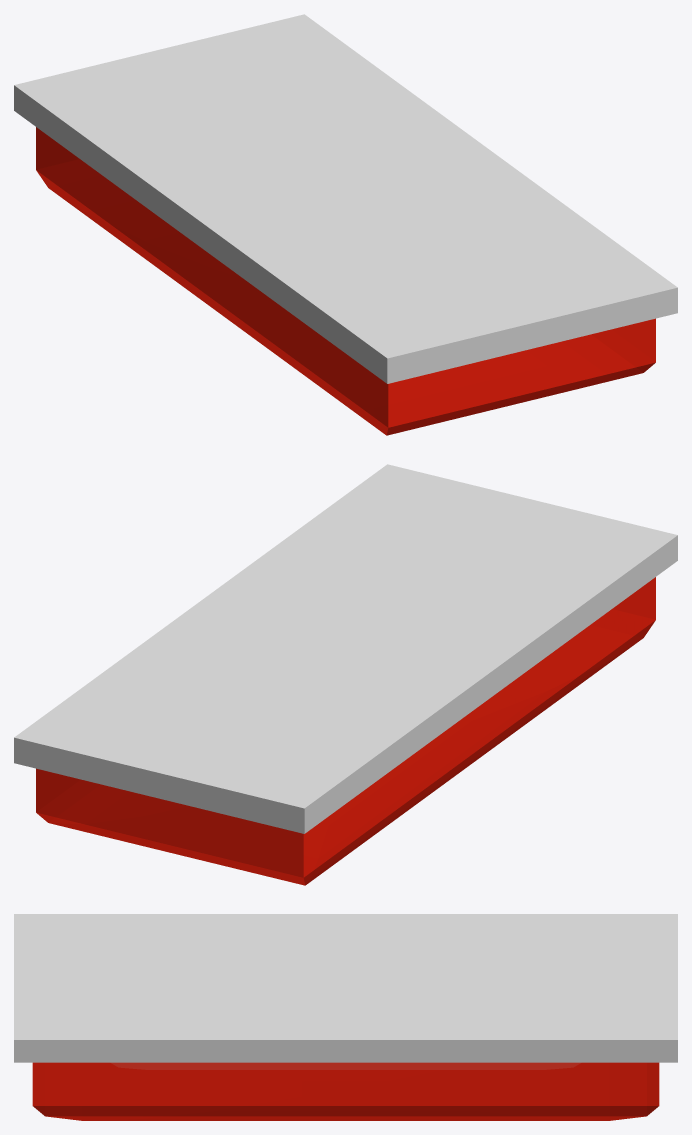
The model's file is emergency_light.glb.
3 views of the same model, one above another, from view 1: azimuth 30°, elevation 25°; view 2: azimuth 150°, elevation 25°; view 3: azimuth 270°, elevation 25° (orthographic). The views are drawn at different scales.
Visible parts, largest first — view 1: Top, Cover; view 2: Top, Cover; view 3: Top, Cover.
Boxes of the visible parts, bbox=[...] form: Top: bbox=[14, 14, 677, 383]; Cover: bbox=[36, 127, 655, 435]; Top: bbox=[14, 464, 677, 833]; Cover: bbox=[36, 577, 655, 885]; Top: bbox=[14, 914, 677, 1062]; Cover: bbox=[32, 1062, 659, 1120].
Bounding box in the file's own units: 1.69 × 0.6999 × 3.76.
